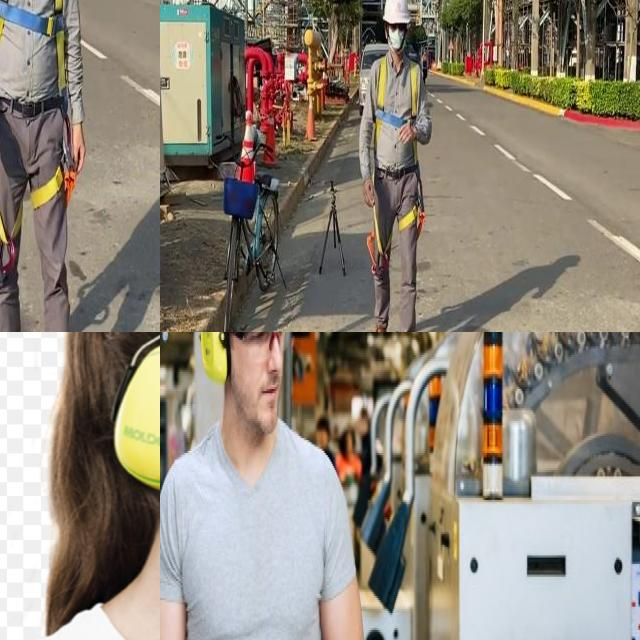Ear-protection: (79, 332, 160, 577), (194, 332, 231, 382)
Harness: (0, 166, 76, 286), (0, 0, 67, 94), (375, 56, 420, 140)
glasses: (236, 332, 289, 357)
person: (160, 332, 370, 640)
